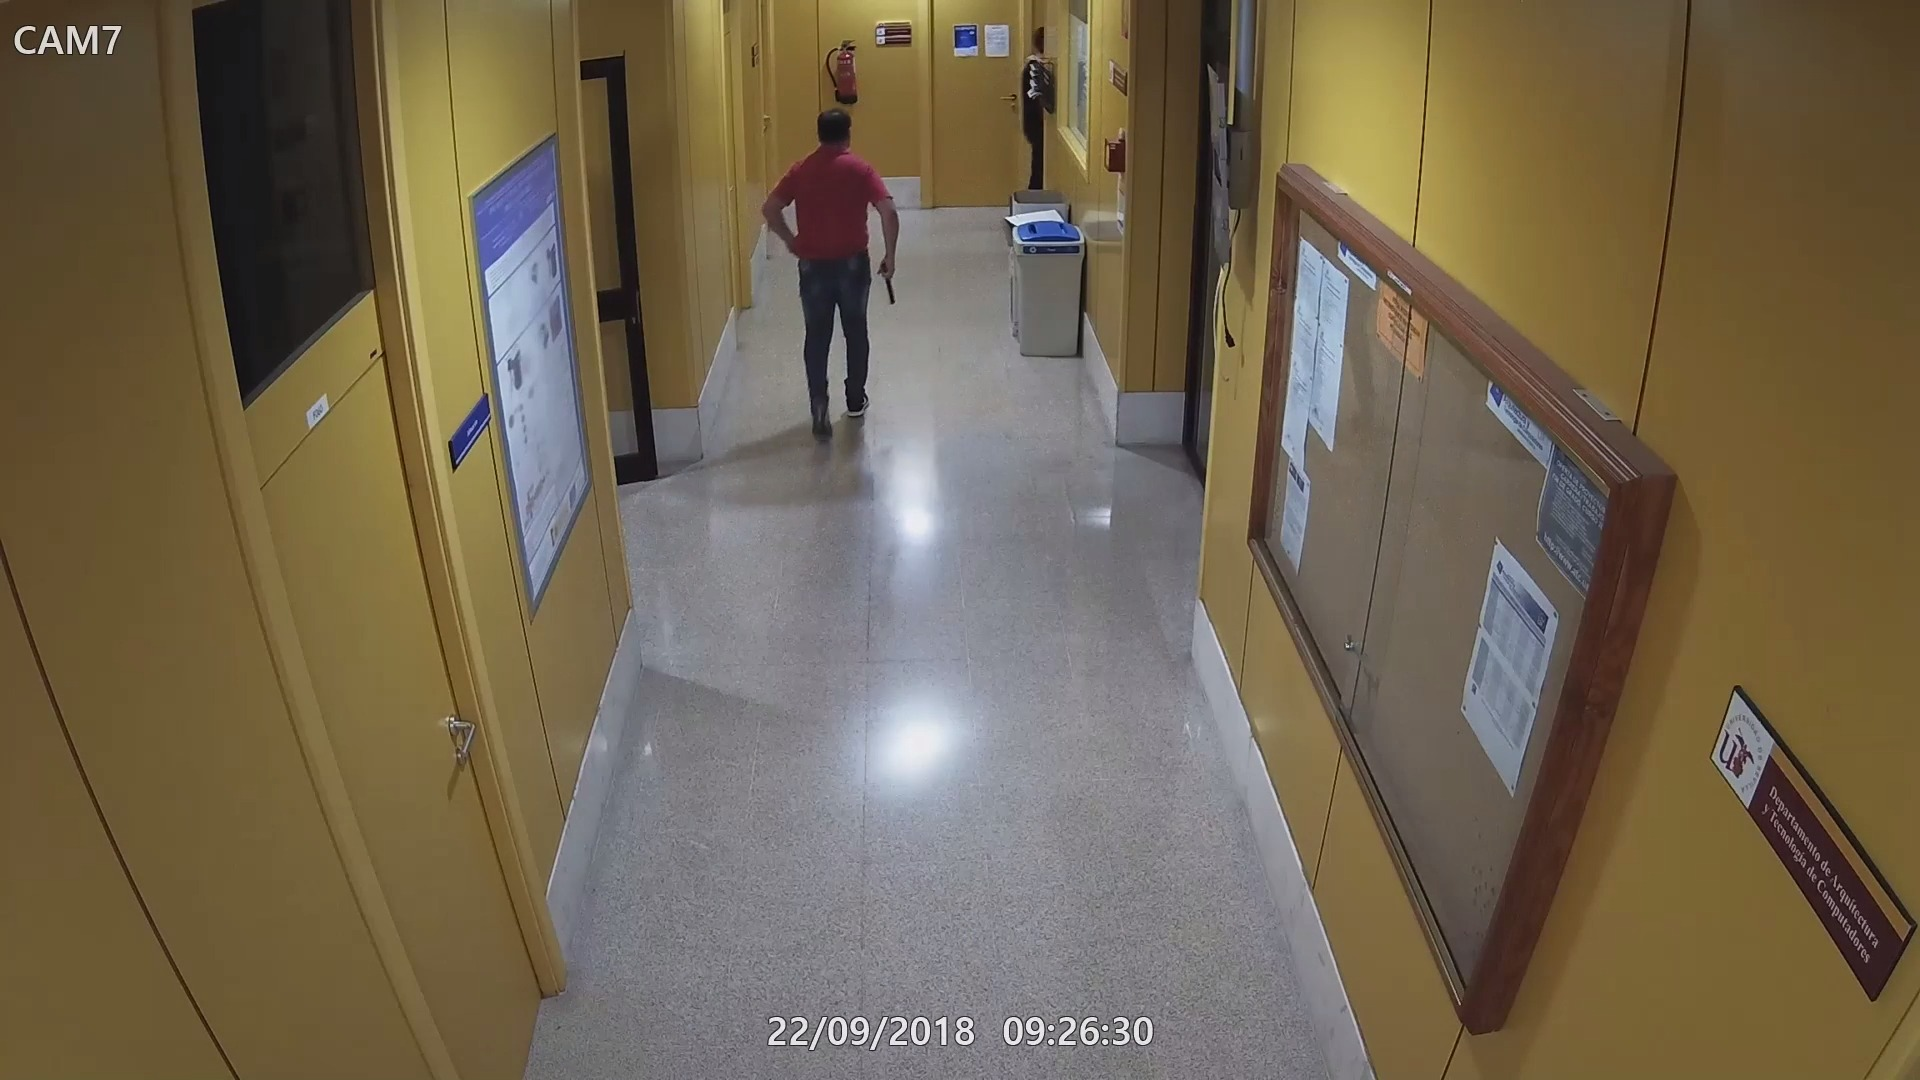Handgun: (874, 258, 899, 305)
